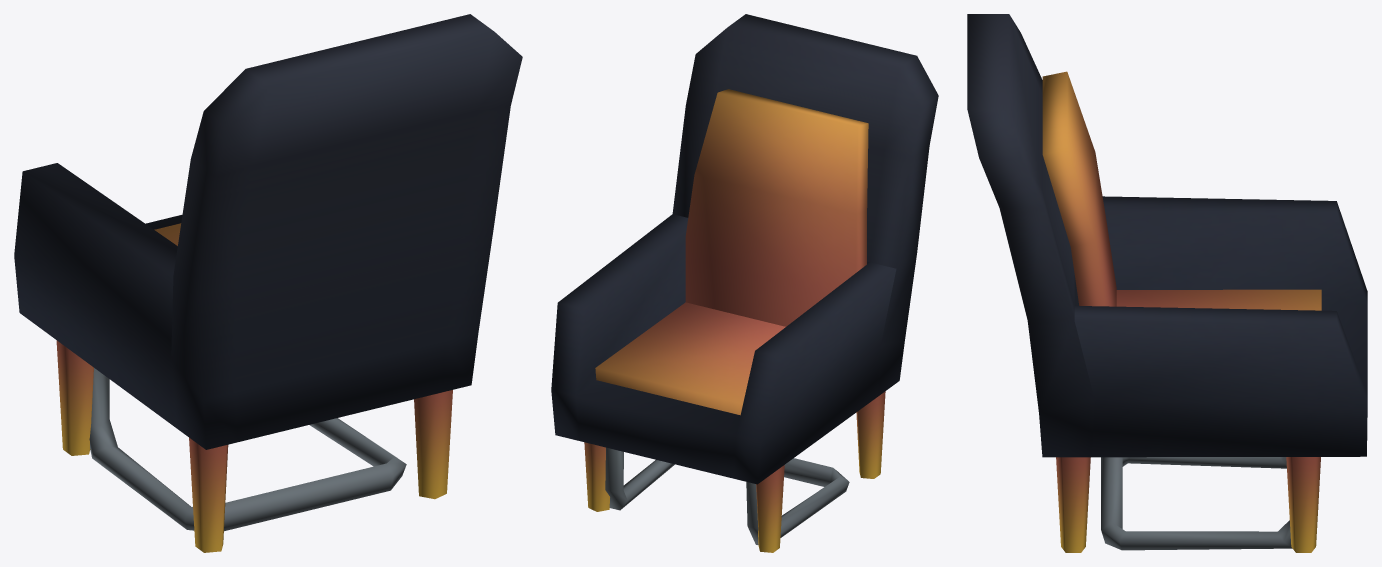
File: Chairs2.FBX
3 renders of one model, left to right at view 1: azimuth 30°, elevation 25°; view 2: azimuth 150°, elevation 25°; view 3: azimuth 270°, elevation 25°, orthographic. The views are drawn at different scales.
Visible parts, largest first — view 1: ComfyChair, RetroChair; view 2: ComfyChair, RetroChair; view 3: ComfyChair, RetroChair.
Part boxes in pixels (x1=…): ComfyChair: x1=14, y1=14, x2=522, y2=552; RetroChair: x1=89, y1=223, x2=406, y2=531; ComfyChair: x1=551, y1=14, x2=938, y2=552; RetroChair: x1=595, y1=89, x2=868, y2=545; ComfyChair: x1=967, y1=14, x2=1367, y2=552; RetroChair: x1=1042, y1=71, x2=1321, y2=550.
Bounding box in the file's own units: 26.73 × 44.25 × 36.13.
